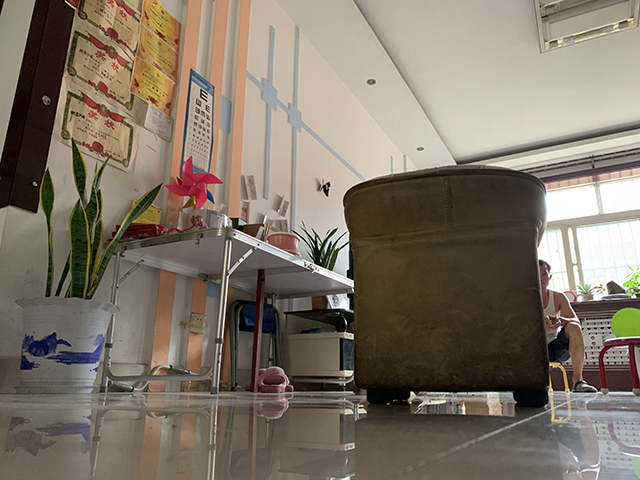slippers: (256, 366, 294, 394)
stool: (341, 164, 551, 410), (598, 333, 640, 397)
table: (98, 224, 355, 396)
